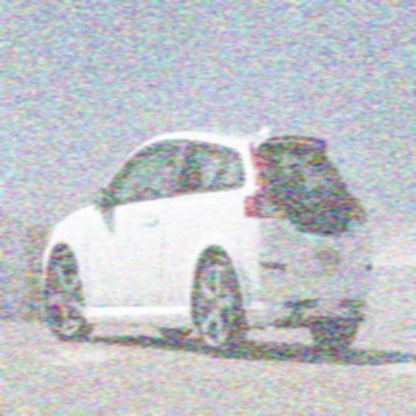Vehicle: (40, 127, 376, 359)
